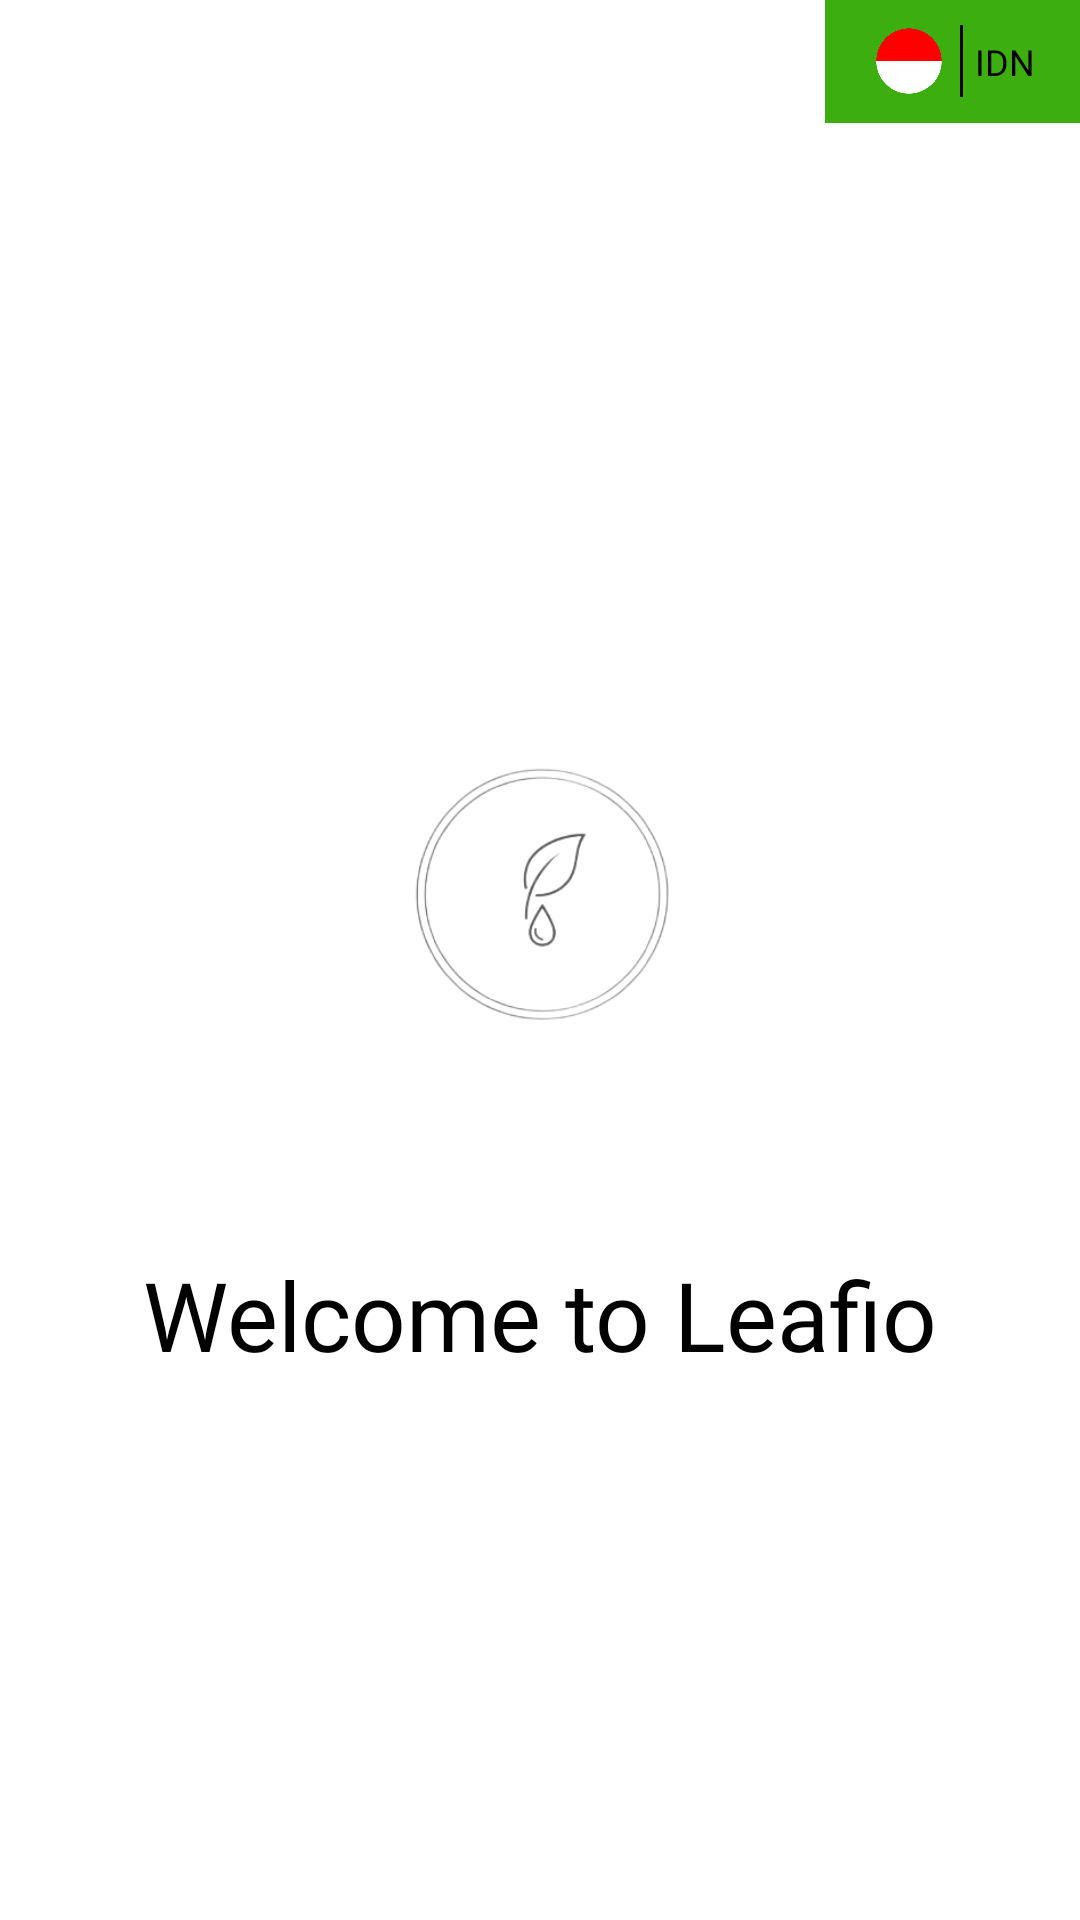

Named icons in this screenshot (1080×1920) and their centers, point (x, y):
indonesia: point (909, 61)
